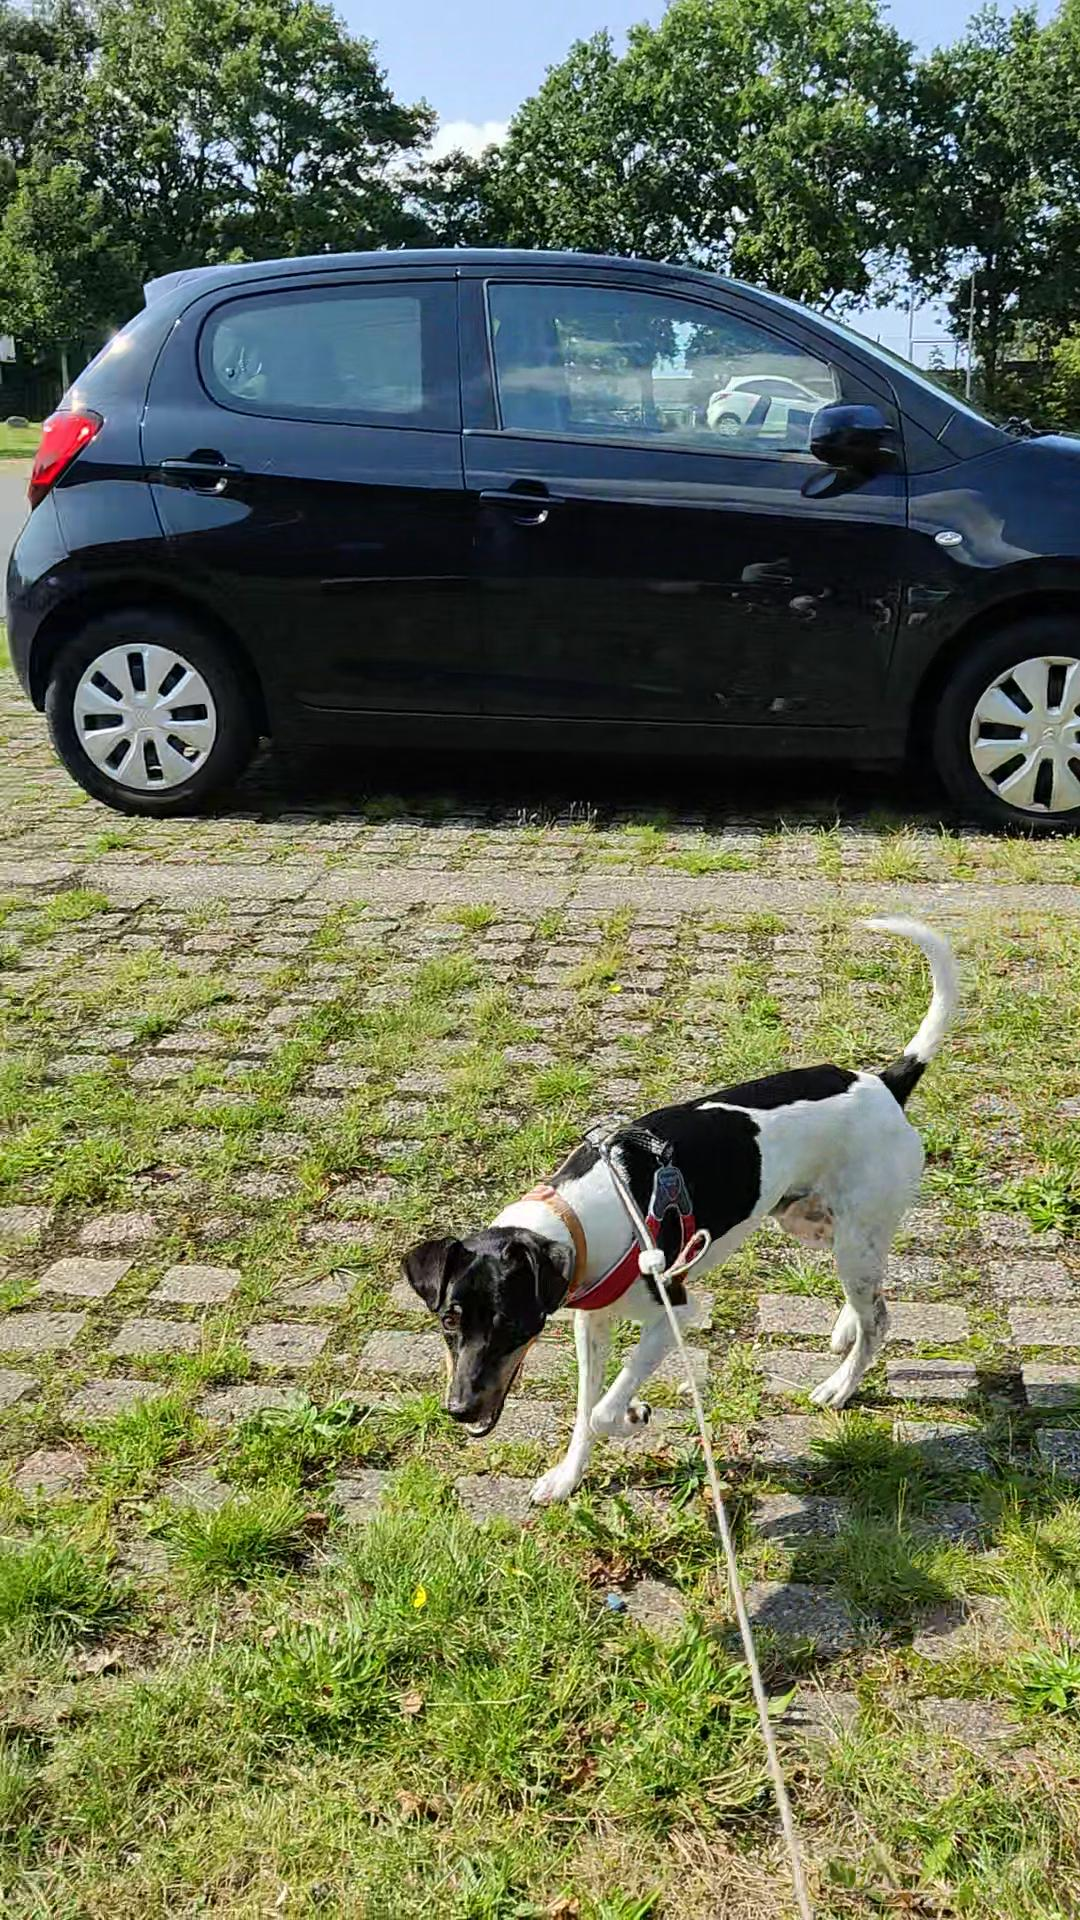Dog: (393, 905, 968, 1516)
